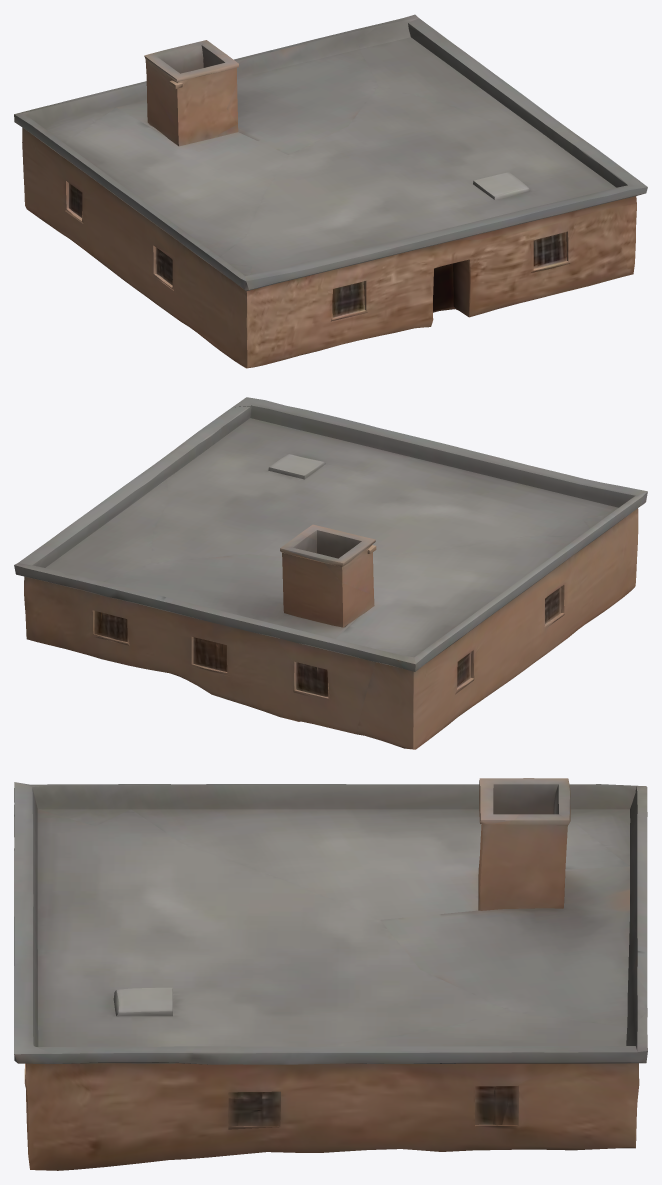
File: m2RooftopBlock.glb
3 views of the same model, one above another, from view 1: azimuth 30°, elevation 25°; view 2: azimuth 150°, elevation 25°; view 3: azimuth 270°, elevation 25° (orthographic). The views are drawn at different scales.
Parts seen in each view (by area): view 1: model; view 2: model; view 3: model.
Part boxes in pixels (x1,y1,x2,y2): model: (14, 14, 647, 368); model: (14, 397, 647, 749); model: (14, 778, 647, 1170).
Bounding box in the file's own units: 1.9 × 0.6732 × 1.9.
Materials: 1 (1 with a texture image).
